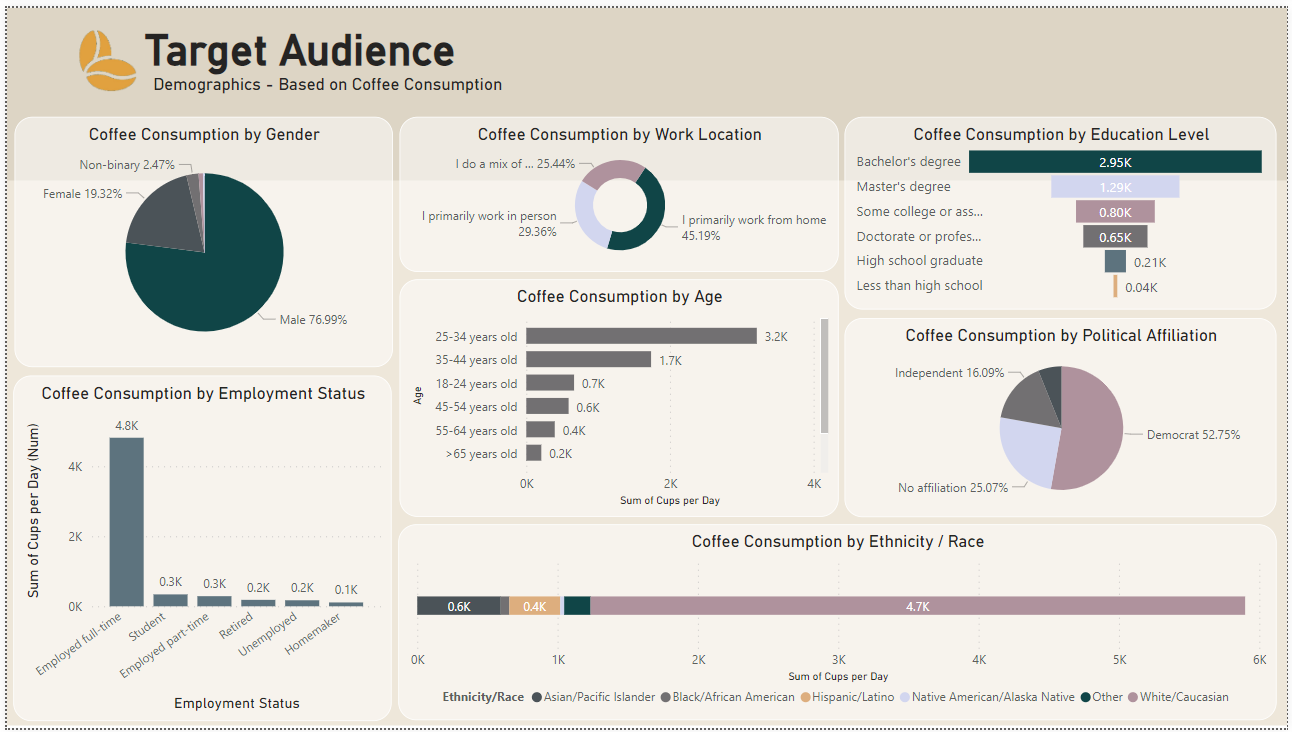

The dashboard page shown, as its layout file describes it:
{"tool":"powerbi","page":{"name":"Target Audience","canvas":[1280,720],"ordinal":1},"visuals":[{"type":"pieChart","title":"Coffee Consumption by Gender","fields":{"Y":["Sum(Processed.Cups per Day (Num))"],"Category":["Processed.Gender"]},"box":[6.9,109.3,378.1,250.1],"z":0},{"type":"barChart","title":"Coffee Consumption by Age","fields":{"Y":["Sum(Processed.Cups per Day (Num))"],"Category":["Processed.Age"]},"box":[391.9,271.8,439.1,237.3],"z":1000},{"type":"funnel","title":"Coffee Consumption by Education Level","fields":{"Category":["Processed.Education Level"],"Y":["Sum(Processed.Cups per Day (Num))"]},"box":[837.9,109.3,432.2,193],"z":2000},{"type":"clusteredColumnChart","title":"Coffee Consumption by Employment Status","fields":{"Category":["Processed.Employment Status"],"Y":["Sum(Processed.Cups per Day (Num))"]},"box":[6.6,367.2,378.5,345.6],"z":3000},{"type":"donutChart","title":"Coffee Consumption by Work Location","fields":{"Y":["Sum(Processed.Cups per Day (Num))"],"Category":["Processed.Work Location"]},"box":[391.9,109.3,439.1,155.6],"z":4000},{"type":"barChart","title":"Coffee Consumption by Ethnicity / Race","fields":{"Y":["Sum(Processed.Cups per Day (Num))"],"Series":["Processed.Ethnicity/Race"]},"box":[391.6,516.5,878.1,196.3],"z":5000},{"type":"pieChart","title":"Coffee Consumption by Political Affiliation","fields":{"Y":["Sum(Processed.Cups per Day (Num))"],"Category":["Processed.Political Affiliation"]},"box":[837.7,309.9,432,199.1],"z":6000},{"type":"textbox","box":[132.9,12.8,381,79.8],"z":7000},{"type":"image","box":[59.1,17.7,83.7,70.9],"z":8000}]}

Visuals, with their boxes in screenshot pixels (x1, y1, x2, y2), scaled from the page's 1280x720 canvas onto the 1292x732 screenshot:
"Coffee Consumption by Gender" pieChart: region(7, 111, 389, 365)
"Coffee Consumption by Age" barChart: region(396, 276, 839, 518)
"Coffee Consumption by Education Level" funnel: region(846, 111, 1282, 307)
"Coffee Consumption by Employment Status" clusteredColumnChart: region(7, 373, 389, 725)
"Coffee Consumption by Work Location" donutChart: region(396, 111, 839, 269)
"Coffee Consumption by Ethnicity / Race" barChart: region(395, 525, 1282, 725)
"Coffee Consumption by Political Affiliation" pieChart: region(846, 315, 1282, 517)
textbox: region(134, 13, 519, 94)
image: region(60, 18, 144, 90)
